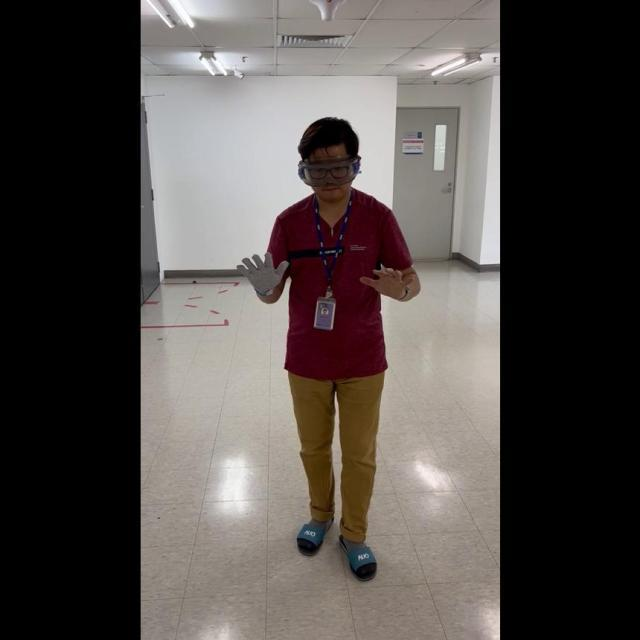bare_hand: (359, 260, 415, 301)
gloved_hand: (236, 247, 289, 300)
